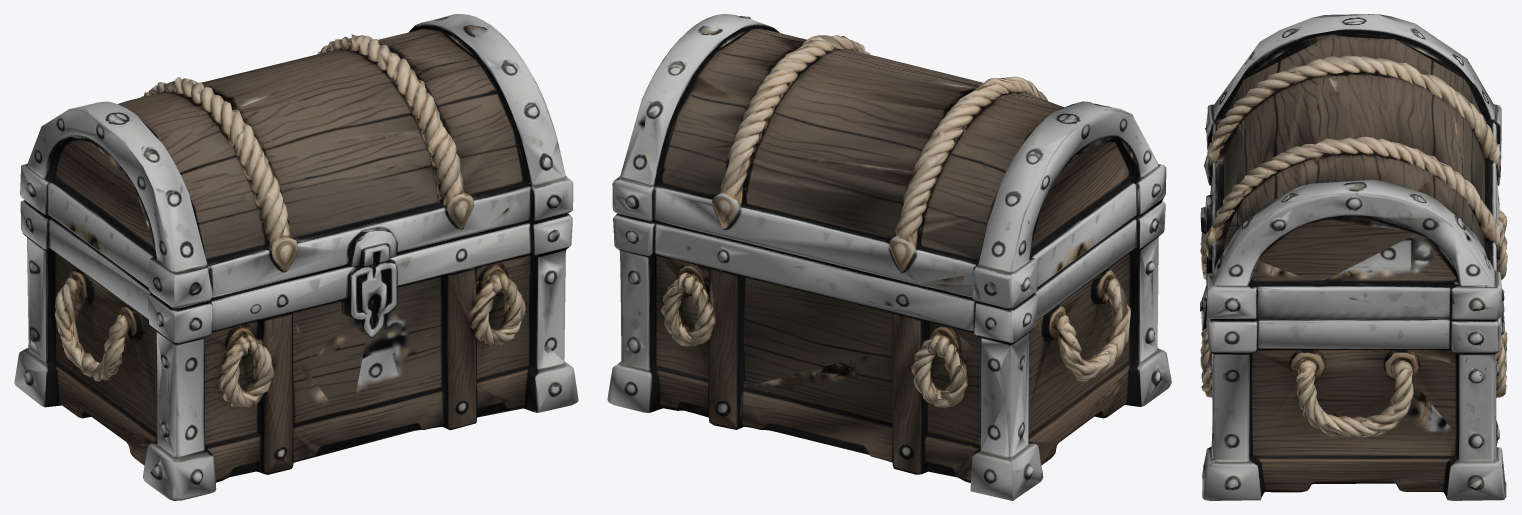
File: lhi_sea_chest.glb
3 views of the same model, side by side, from view 1: azimuth 30°, elevation 25°; view 2: azimuth 150°, elevation 25°; view 3: azimuth 270°, elevation 25° (orthographic). The views are drawn at different scales.
Visible parts, largest first — view 1: material; view 2: material; view 3: material.
Boxes of the visible parts, x1=… form: material: x1=14, y1=14, x2=578, y2=500; material: x1=607, y1=14, x2=1171, y2=500; material: x1=1200, y1=14, x2=1507, y2=500.
Size of the model in its own units: 0.904 by 0.6498 by 0.5834.
1 material, 1 textured.
